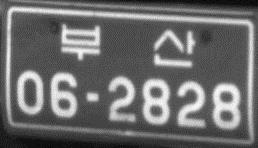-: (84, 90, 101, 106)
0: (15, 68, 46, 116)
2: (175, 77, 208, 129), (106, 74, 138, 124)
6: (48, 71, 79, 119)
8: (210, 81, 243, 132), (140, 76, 172, 127)
부산_D: (60, 21, 196, 70)
